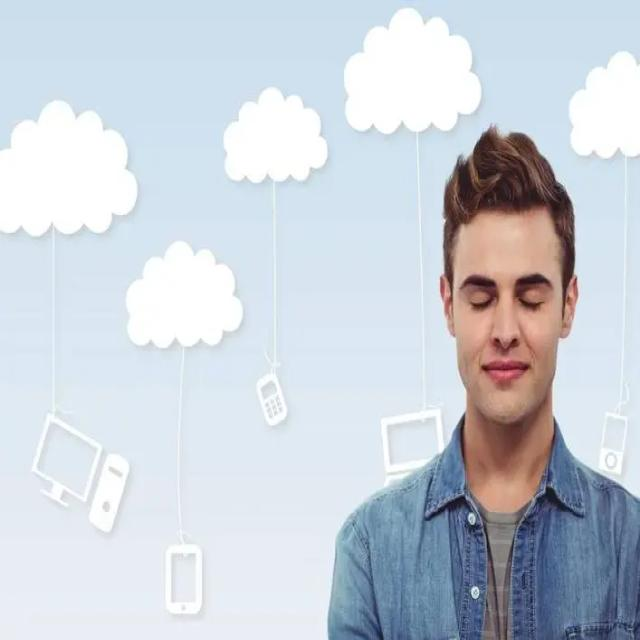Closed: (516, 287, 547, 312), (466, 285, 495, 311)
